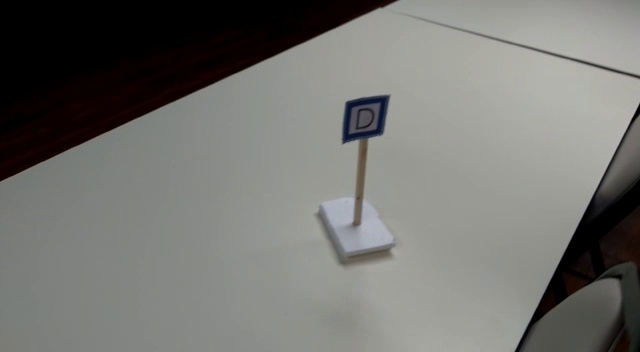durak: (339, 93, 391, 145)
